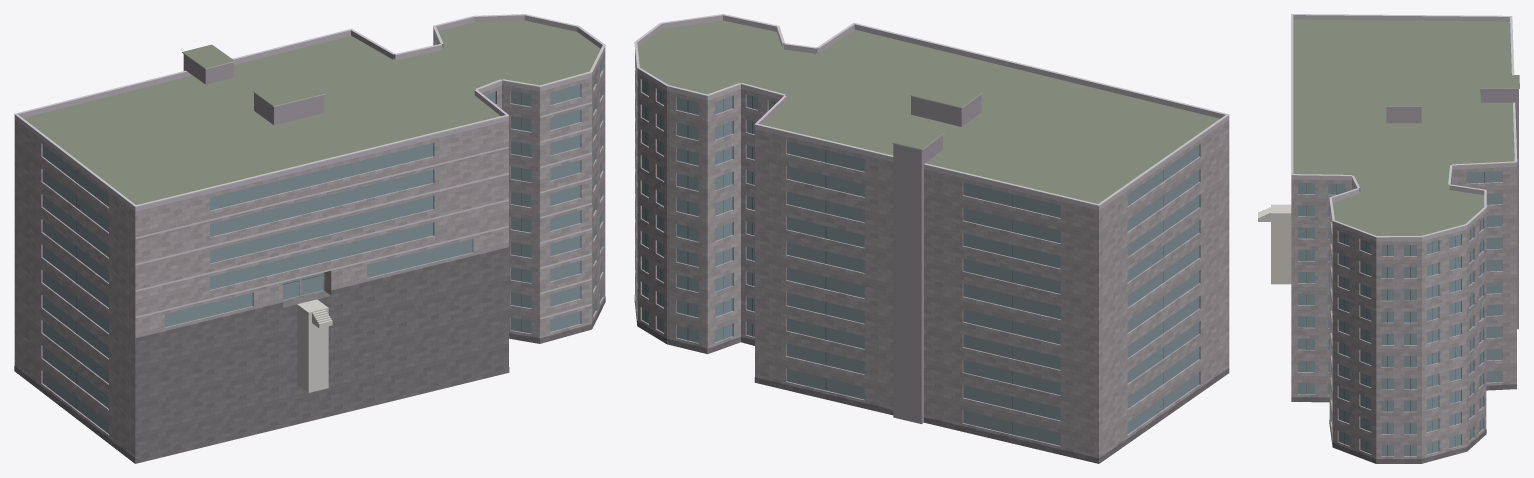
The picture shows the model from 3 angles, left to right: view 1: azimuth 30°, elevation 25°; view 2: azimuth 150°, elevation 25°; view 3: azimuth 270°, elevation 25°; orthographic projection. The views are drawn at different scales.
Parts seen in each view (by area): view 1: b65__wall, b65__roof, b65__base, b65__glass, b65__trim, b65__parapet, b65__entranceStair, b65__wall2; view 2: b65__wall, b65__roof, b65__glass, b65__wall2, b65__parapet, b65__base, b65__trim, b65__frame; view 3: b65__roof, b65__wall, b65__glass, b65__parapet, b65__trim, b65__entranceStair, b65__wall2, b65__base, b65__frame.
Part boxes in pixels (left/top/right/bottom): b65__wall: left=14, top=31, right=605, bottom=463; b65__roof: left=23, top=20, right=600, bottom=462; b65__base: left=14, top=247, right=605, bottom=463; b65__glass: left=42, top=43, right=602, bottom=433; b65__trim: left=14, top=14, right=605, bottom=319; b65__parapet: left=14, top=15, right=605, bottom=211; b65__entranceStair: left=297, top=299, right=332, bottom=392; b65__wall2: left=183, top=54, right=323, bottom=125; b65__wall: left=635, top=50, right=1229, bottom=463; b65__roof: left=637, top=20, right=1219, bottom=203; b65__glass: left=642, top=80, right=1199, bottom=445; b65__wall2: left=893, top=94, right=981, bottom=424; b65__parapet: left=637, top=15, right=1229, bottom=210; b65__base: left=634, top=295, right=1229, bottom=463; b65__trim: left=634, top=14, right=1229, bottom=205; b65__frame: left=645, top=82, right=1163, bottom=434; b65__roof: left=1293, top=19, right=1519, bottom=402; b65__wall: left=1291, top=167, right=1516, bottom=463; b65__glass: left=1298, top=171, right=1502, bottom=456; b65__parapet: left=1291, top=15, right=1516, bottom=241; b65__trim: left=1291, top=14, right=1519, bottom=425; b65__entranceStair: left=1258, top=204, right=1291, bottom=284; b65__wall2: left=1386, top=89, right=1518, bottom=329; b65__base: left=1291, top=384, right=1516, bottom=463; b65__frame: left=1306, top=171, right=1484, bottom=456.
Size of the model in its own units: 77.55 by 39.17 by 38.46.
Materials: 10 (2 with a texture image).
